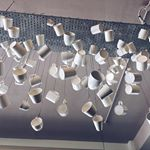cups: (86, 70, 105, 92), (8, 67, 28, 87), (8, 40, 28, 60), (112, 100, 130, 119), (93, 49, 111, 67), (56, 99, 72, 119), (80, 100, 98, 117), (29, 114, 45, 133), (123, 84, 144, 98), (26, 88, 44, 104), (91, 114, 106, 133), (44, 88, 61, 103), (29, 73, 45, 88), (61, 31, 76, 47), (104, 29, 117, 46), (89, 24, 104, 37), (34, 33, 45, 47)
